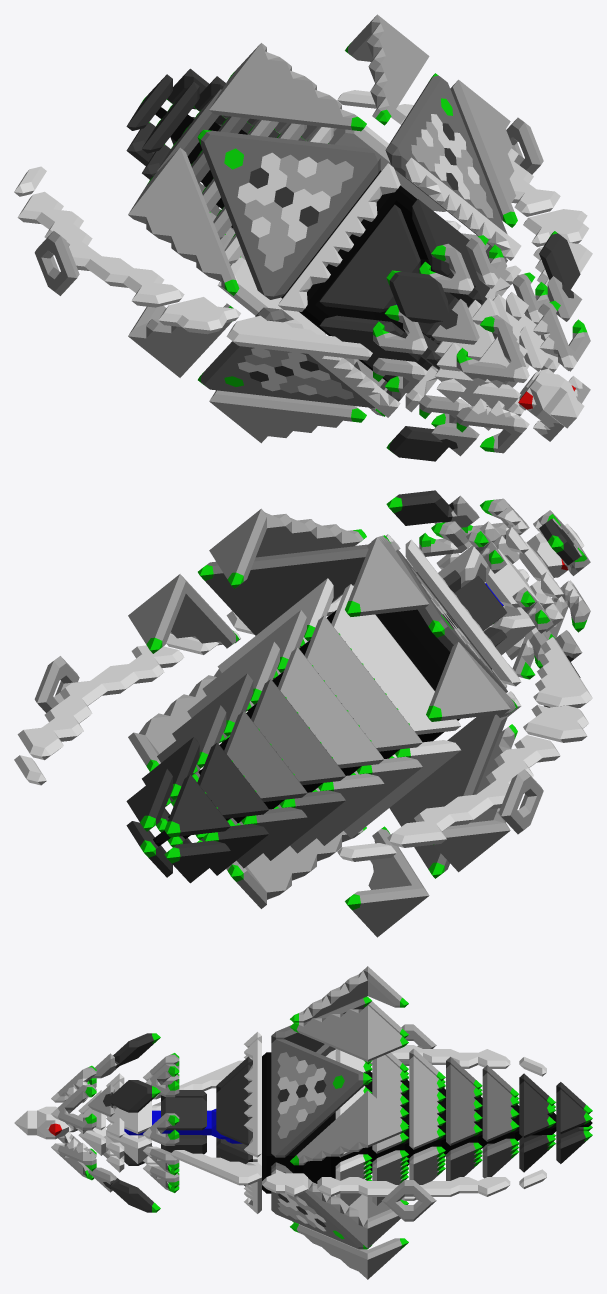
File: ship_auron_kalad.fbx
3 renders of one model, top to bottom at view 1: azimuth 30°, elevation 25°; view 2: azimuth 150°, elevation 25°; view 3: azimuth 270°, elevation 25°, orthographic. The views are drawn at different scales.
Visible parts, largest first — view 1: ship_auron_kalad; view 2: ship_auron_kalad; view 3: ship_auron_kalad.
Boxes of the visible parts, x1,y1,x2,y2 form: ship_auron_kalad: (14,14,592,461); ship_auron_kalad: (14,490,592,937); ship_auron_kalad: (14,966,592,1279).
Size of the model in its own units: 4100 by 3300 by 6300.
